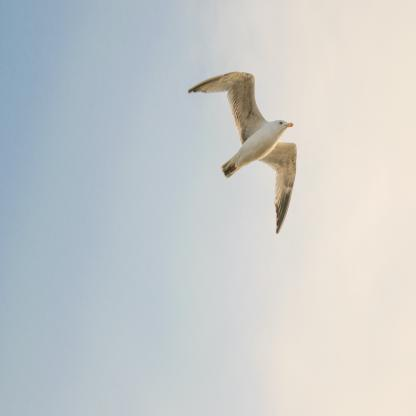bird: (188, 72, 298, 236)
